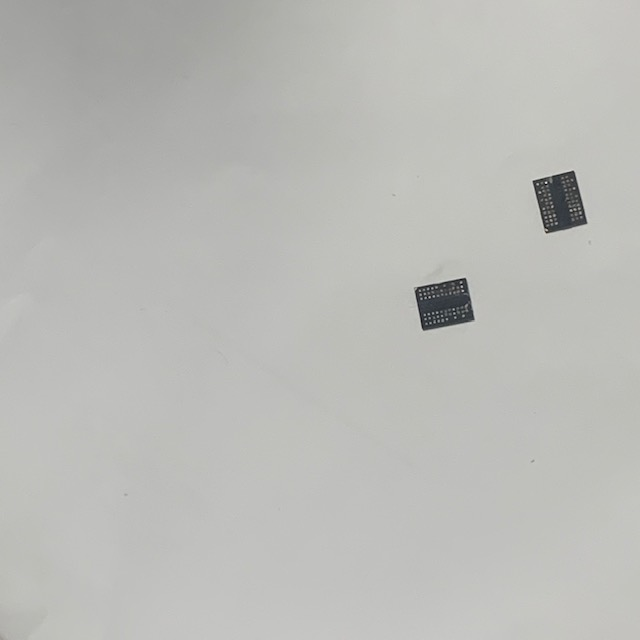IC: (531, 169, 590, 236), (412, 274, 476, 332)
